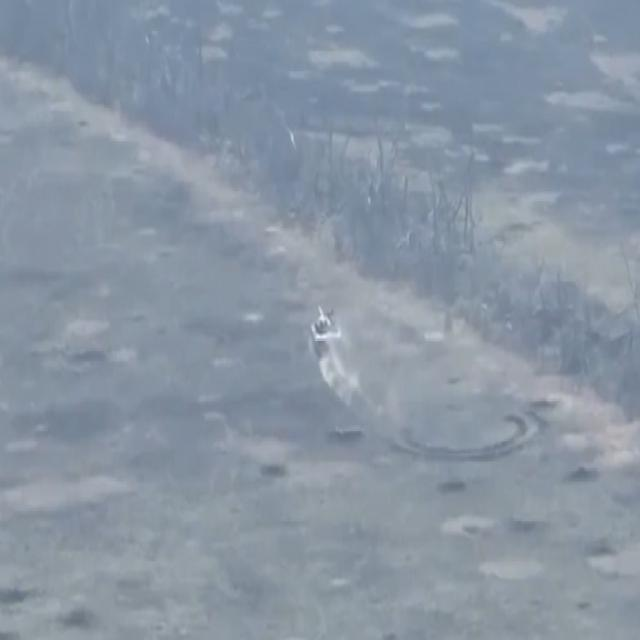TANK: (306, 300, 344, 356)
